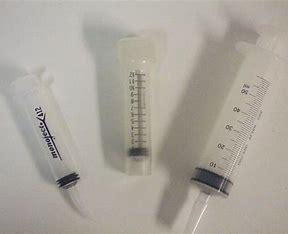Syringe: (168, 20, 286, 234), (1, 56, 100, 218), (110, 26, 173, 178)
